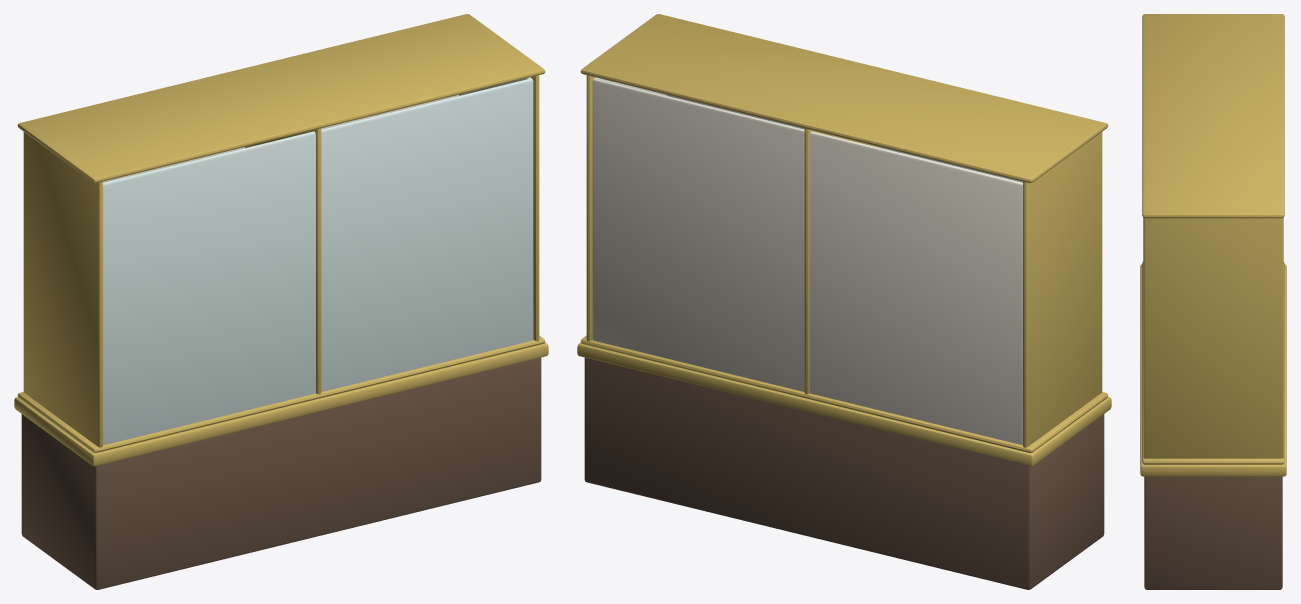
The model's file is premium_case.glb.
3 renders of one model, left to right at view 1: azimuth 30°, elevation 25°; view 2: azimuth 150°, elevation 25°; view 3: azimuth 270°, elevation 25°, orthographic. The views are drawn at different scales.
Visible parts, largest first — view 1: premium_case; view 2: premium_case; view 3: premium_case.
Part boxes in pixels (x1,y1,x2,y2): premium_case: (14, 14, 548, 589); premium_case: (577, 14, 1111, 589); premium_case: (1140, 14, 1286, 589).
Size of the model in its own units: 2.3 by 1.99 by 0.7.
